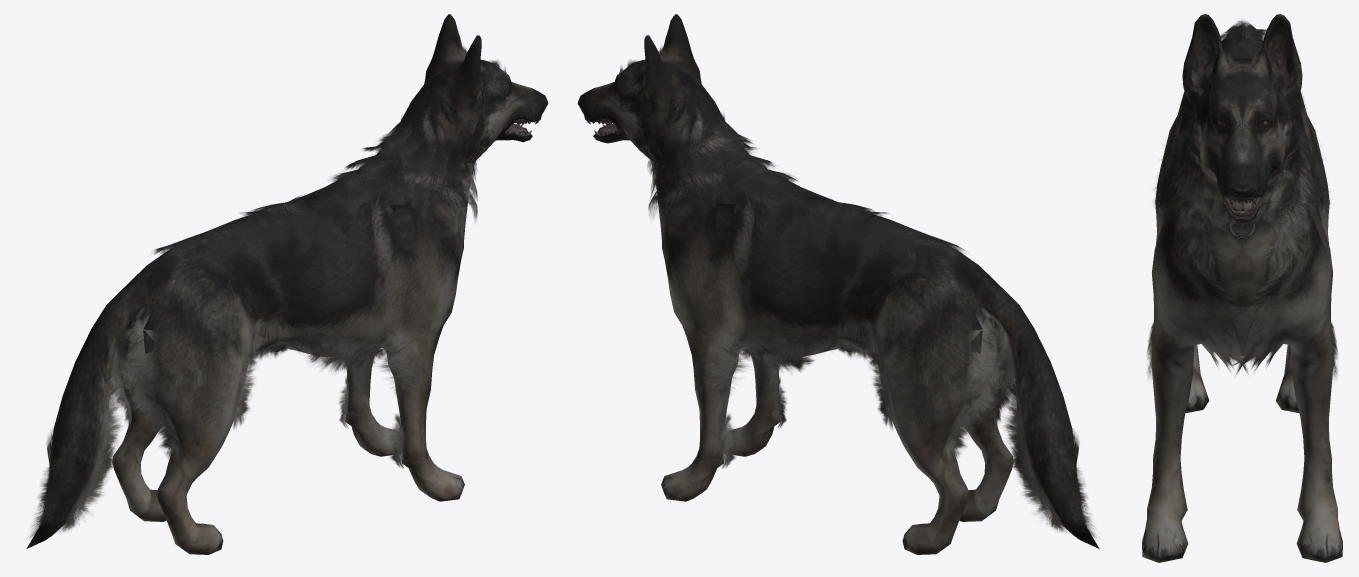
3 renders of one model, left to right at view 1: azimuth 30°, elevation 25°; view 2: azimuth 150°, elevation 25°; view 3: azimuth 270°, elevation 25°, orthographic. The views are drawn at different scales.
Visible parts, largest first — view 1: TomGroup_0_Material #34_0, TomGroup_3_Material #37_0; view 2: TomGroup_0_Material #34_0, TomGroup_3_Material #37_0; view 3: TomGroup_0_Material #34_0, TomGroup_3_Material #37_0, TomGroup_1_Material #34_0.
Part boxes in pixels (bbox=[...]): TomGroup_0_Material #34_0: bbox=[26, 14, 548, 554]; TomGroup_3_Material #37_0: bbox=[29, 46, 508, 539]; TomGroup_0_Material #34_0: bbox=[577, 14, 1099, 554]; TomGroup_3_Material #37_0: bbox=[617, 46, 1096, 539]; TomGroup_0_Material #34_0: bbox=[1142, 14, 1342, 562]; TomGroup_3_Material #37_0: bbox=[1147, 20, 1337, 378]; TomGroup_1_Material #34_0: bbox=[1225, 197, 1259, 217].
Size of the model in its own units: 3.41 by 2.69 by 0.8713.
Materials: 2 (2 with a texture image).
